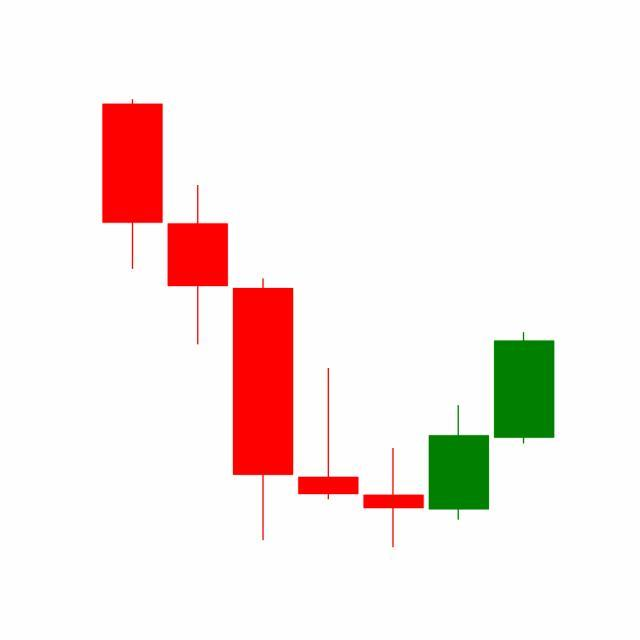Three Outside Up-Down: (360, 329, 556, 548)
